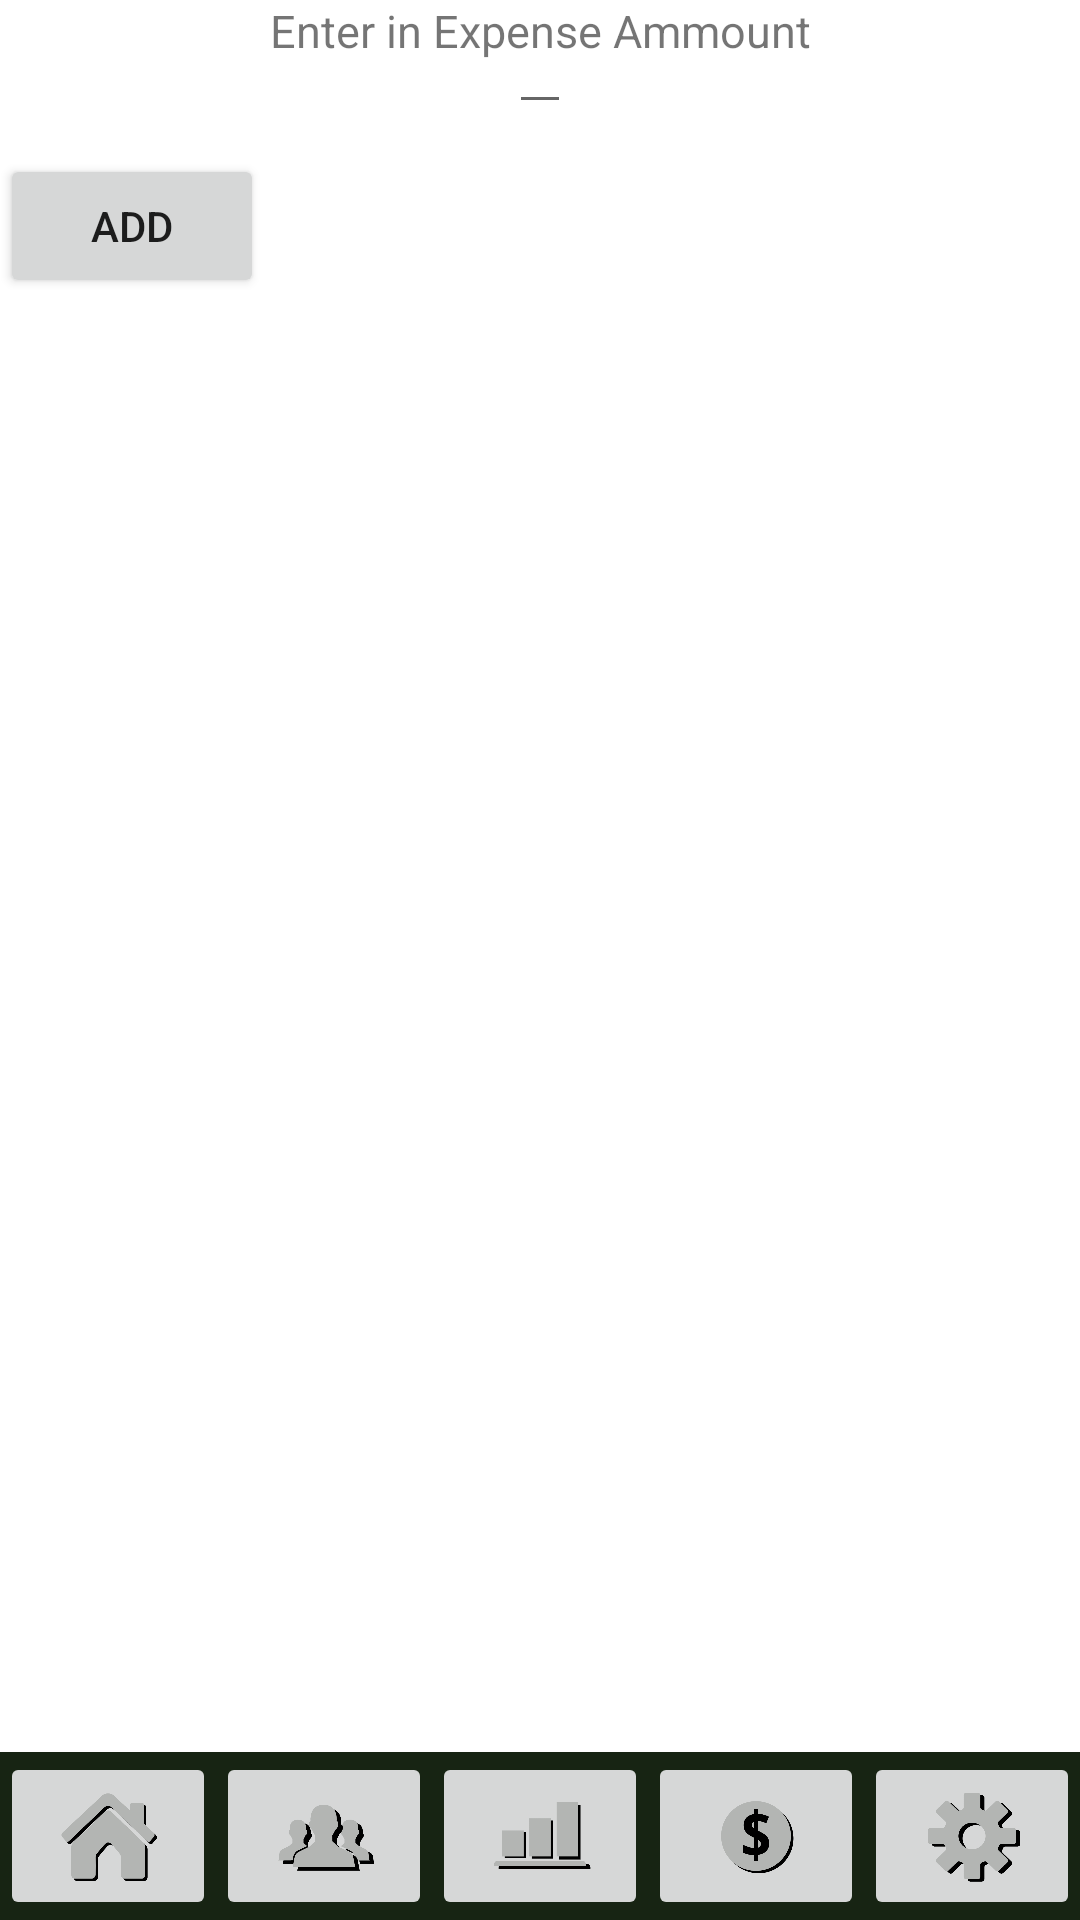

Screen size 1080w x 1920h. Icon name, then its box in pixels as box(x1, y1, x2, y2):
expensebutton: box(660, 1770, 852, 1902)
groupbutton: box(228, 1770, 420, 1902)
homebutton: box(12, 1770, 204, 1902)
reportbutton: box(444, 1770, 636, 1902)
settingsbutton: box(876, 1770, 1068, 1902)
